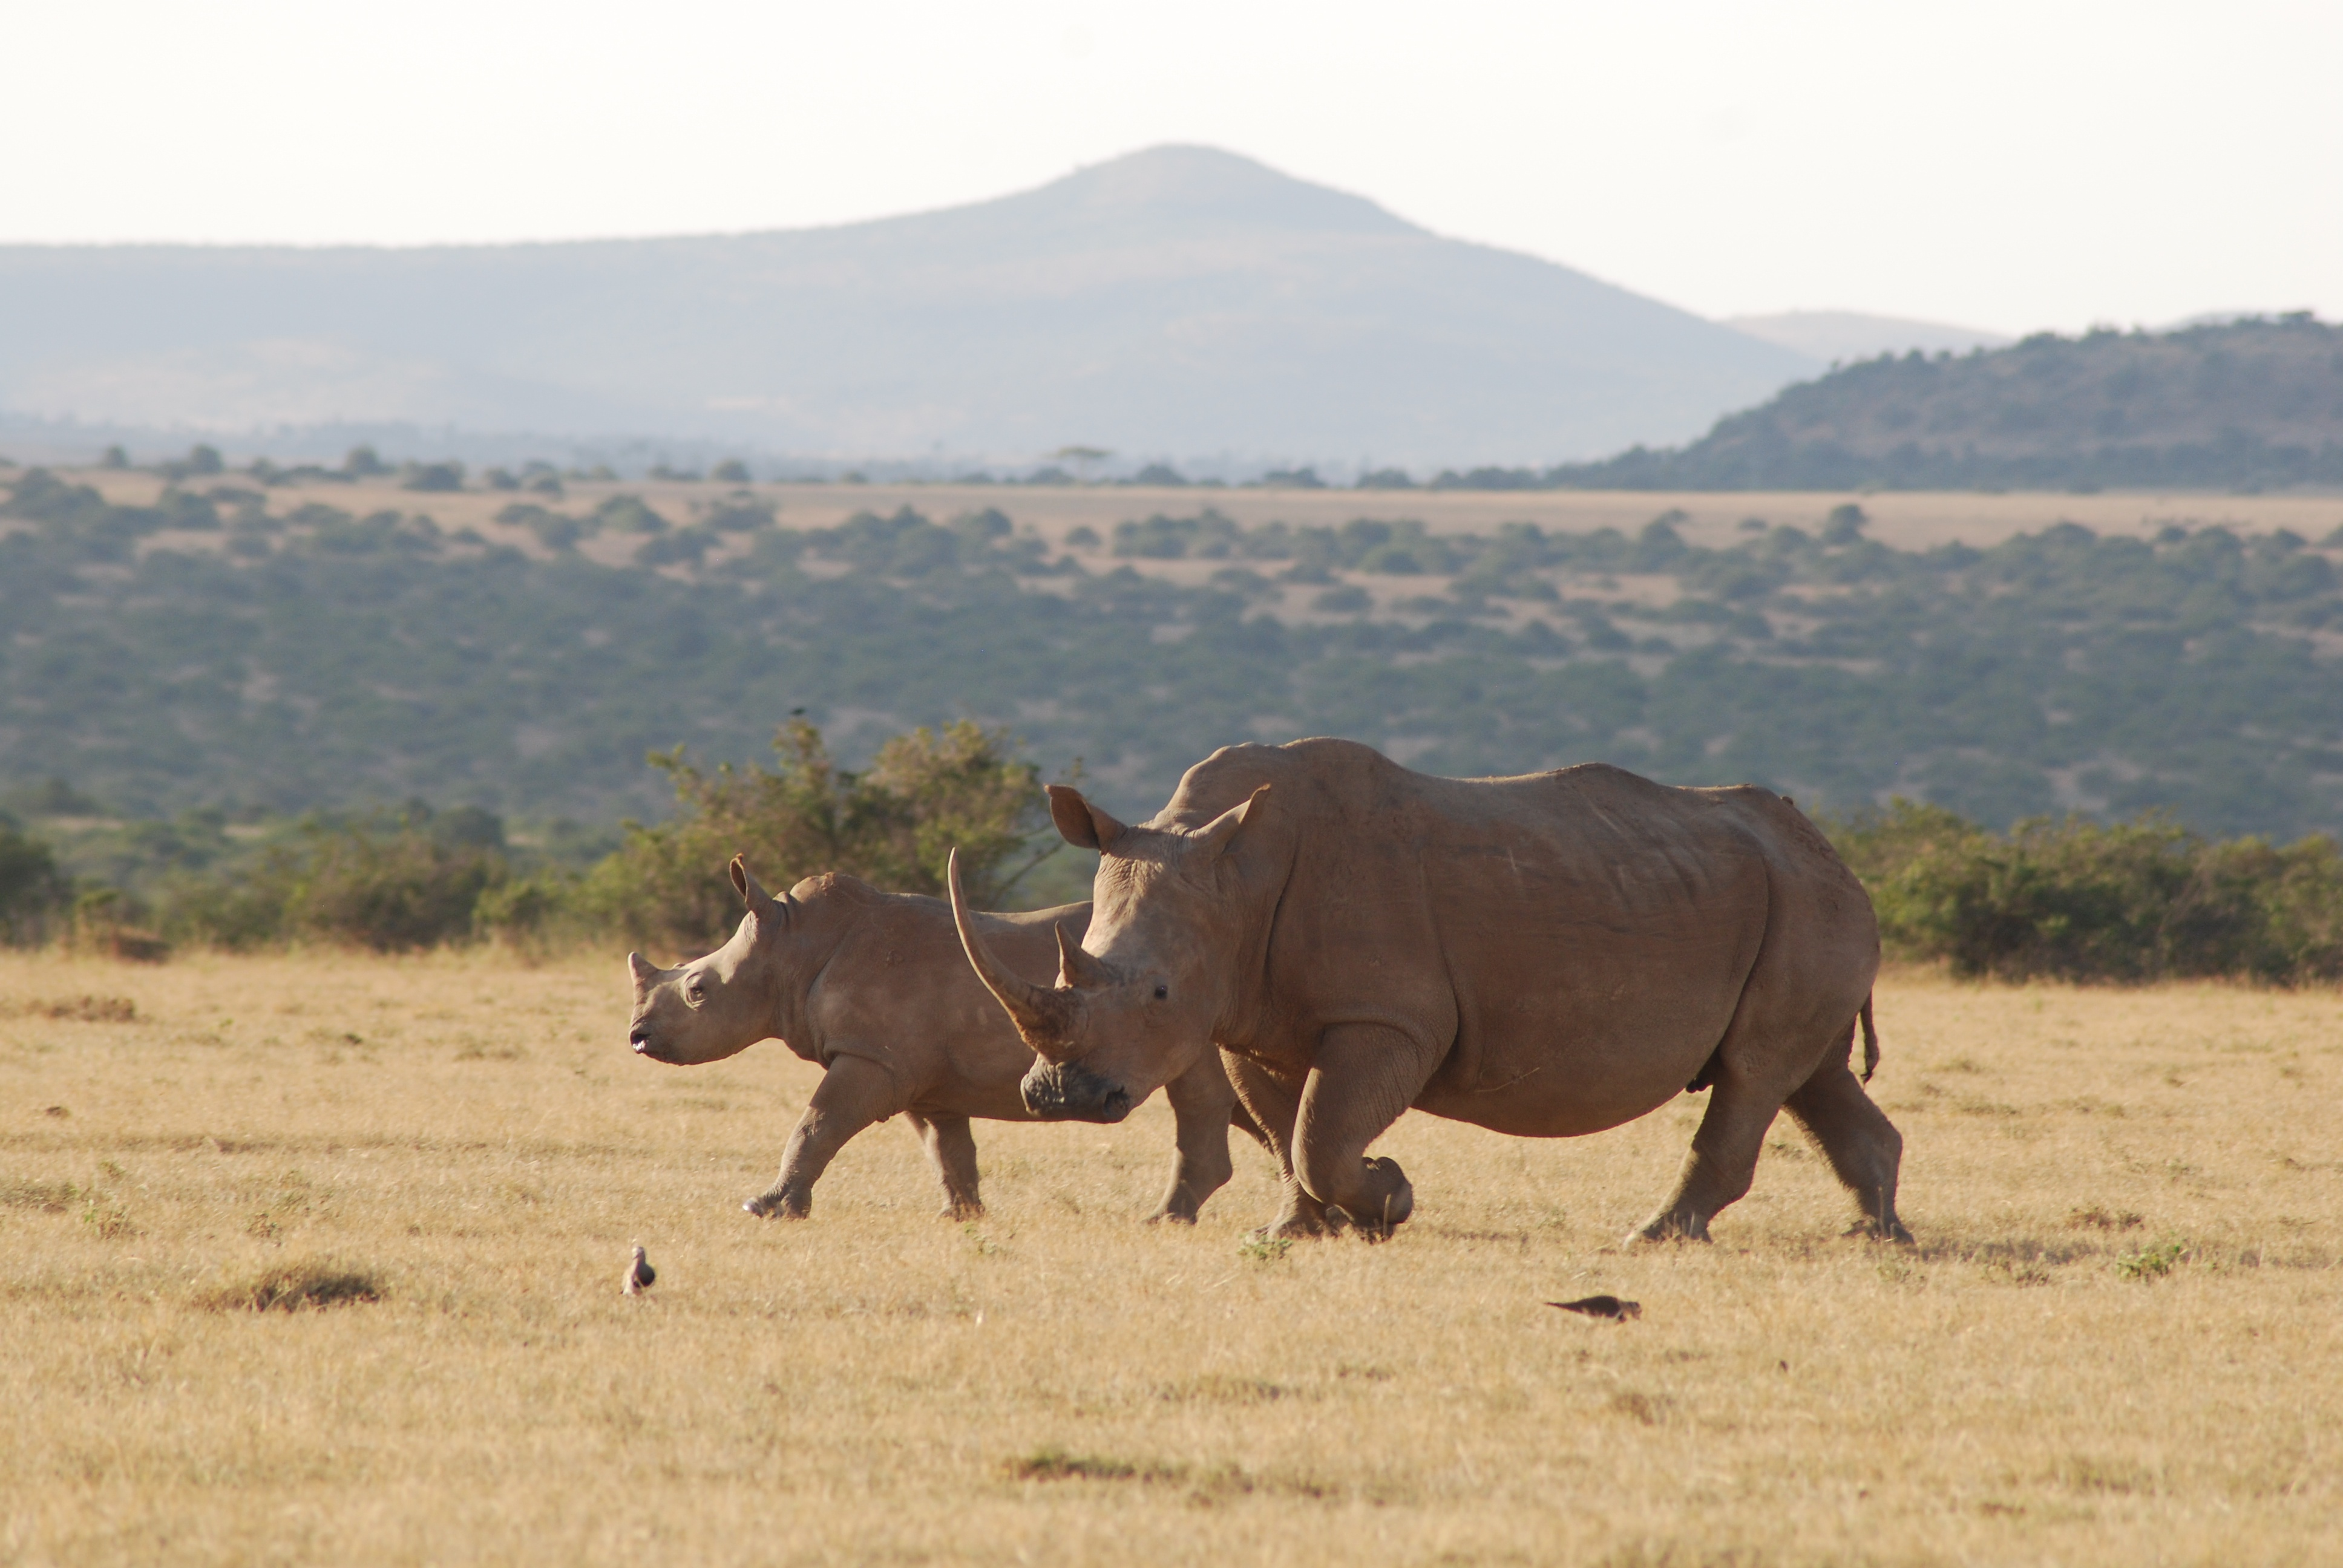rhino: (941, 719, 1909, 1256), (618, 845, 1242, 1230)
